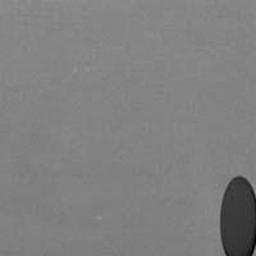Punching: (220, 176, 256, 256)
